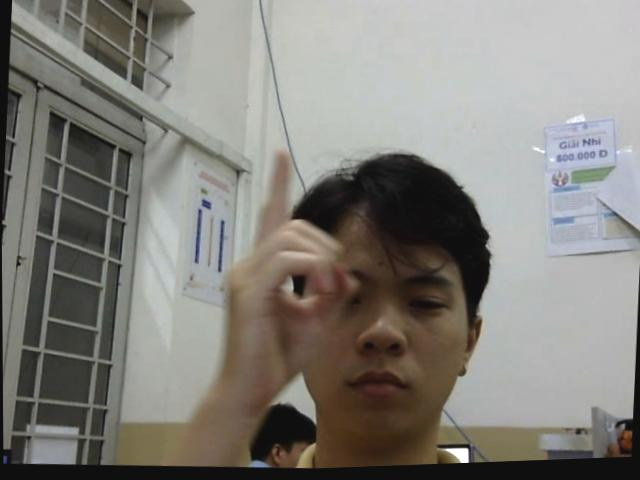D: (214, 147, 365, 404)
